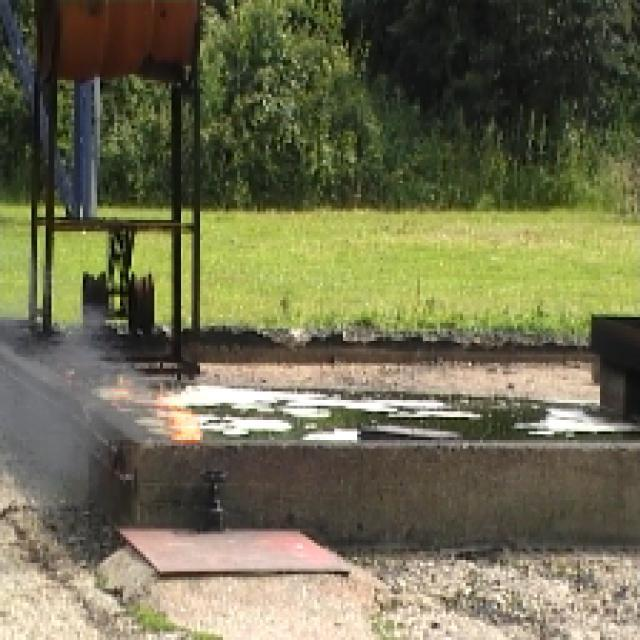Fire: (143, 395, 222, 454)
Smoke: (12, 344, 111, 480)
